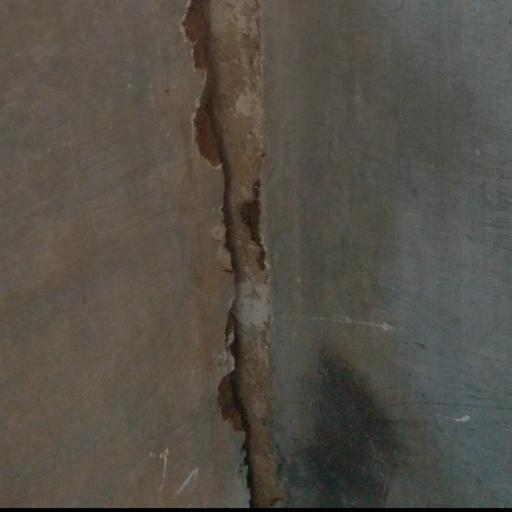major_crack: (166, 0, 307, 512)
